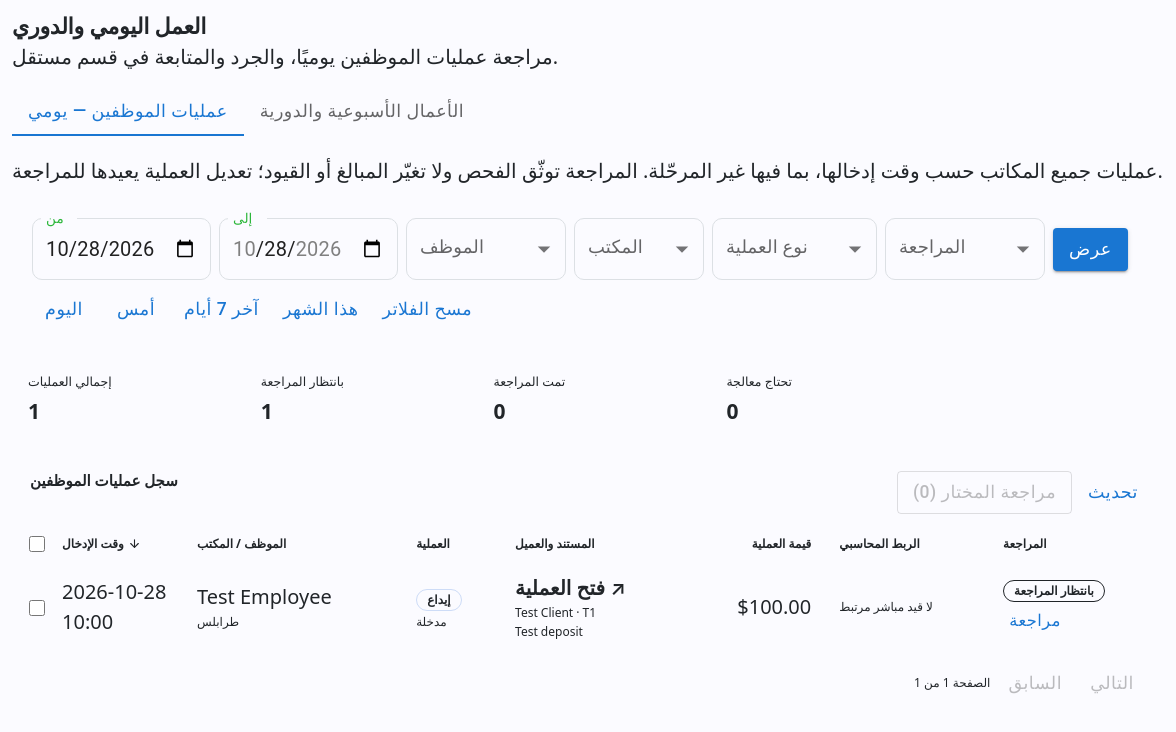
Test: periodic tools are moved behind their own tab and do not load during daily review
Check: the text "Test Employee" is shown, box 197,583 -> 332,610
What coordinates should you click on to do the following:
click the tab "الأعمال الأسبوعية والدورية"
I would click on:
 (362, 112)
Its box is 244,88 -> 480,136.
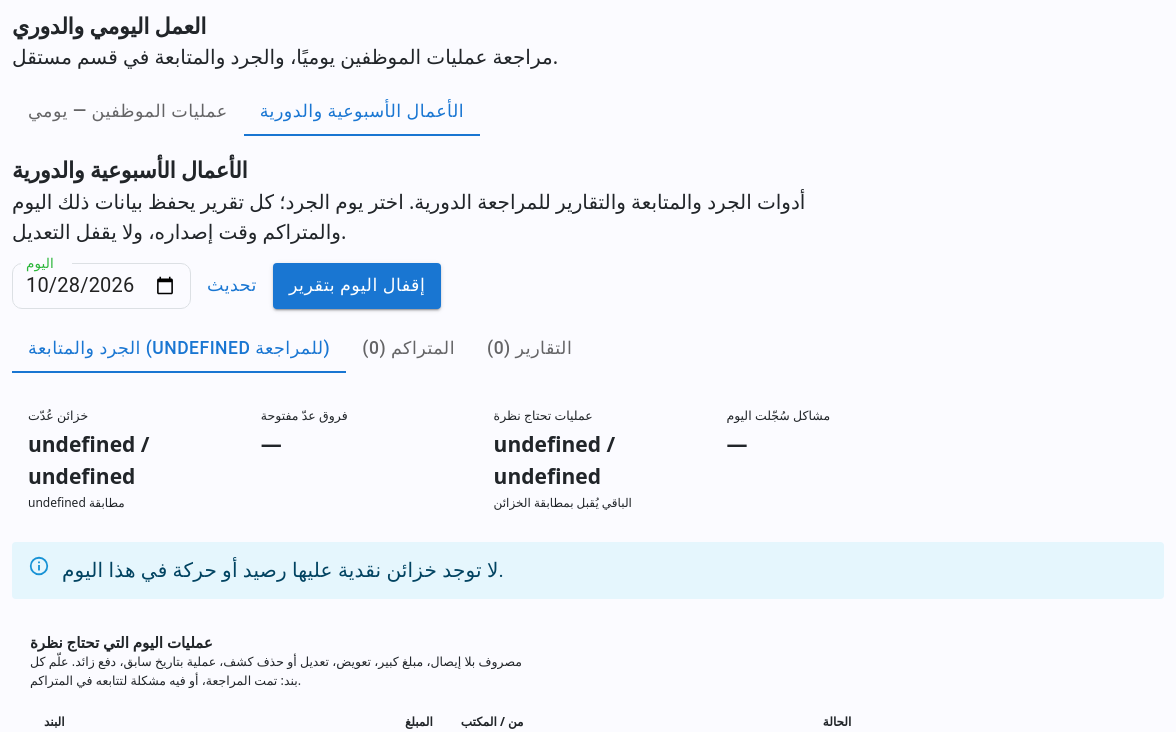
Check: the heading "سجل عمليات الموظفين" is gone
Check: the tab "الجرد والمتابعة (undefined للمراجعة)" is shown, box 12,324 -> 346,372
